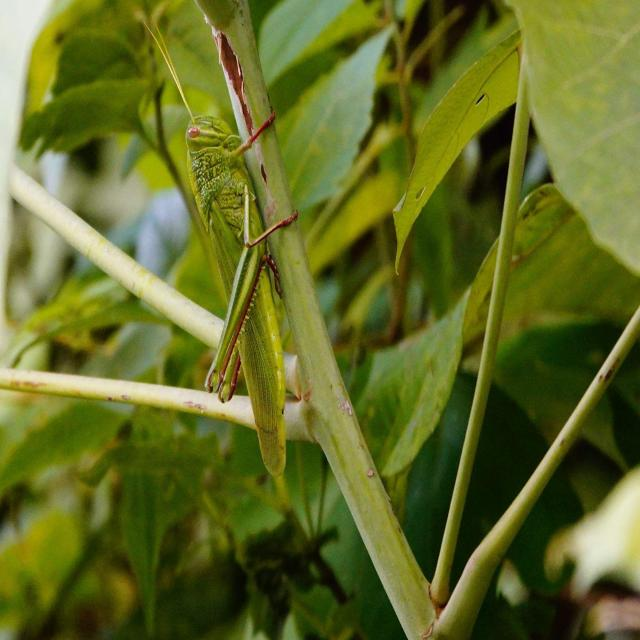ZhaMeng: (166, 75, 321, 486)
